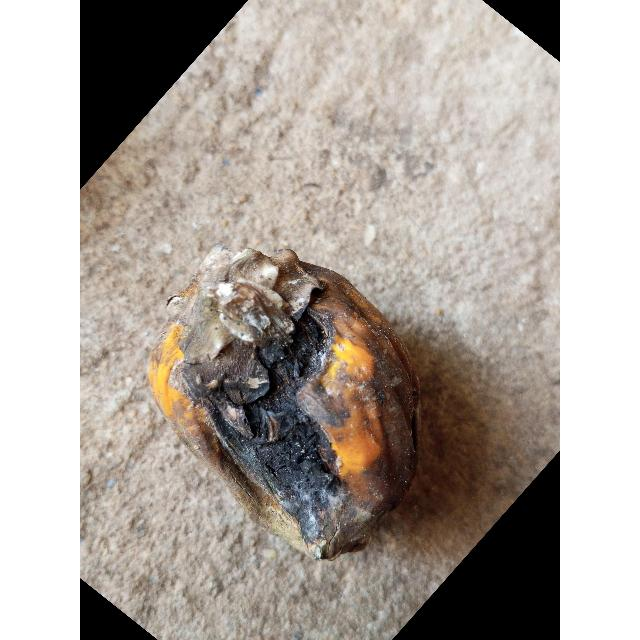damaged: (145, 247, 422, 564)
